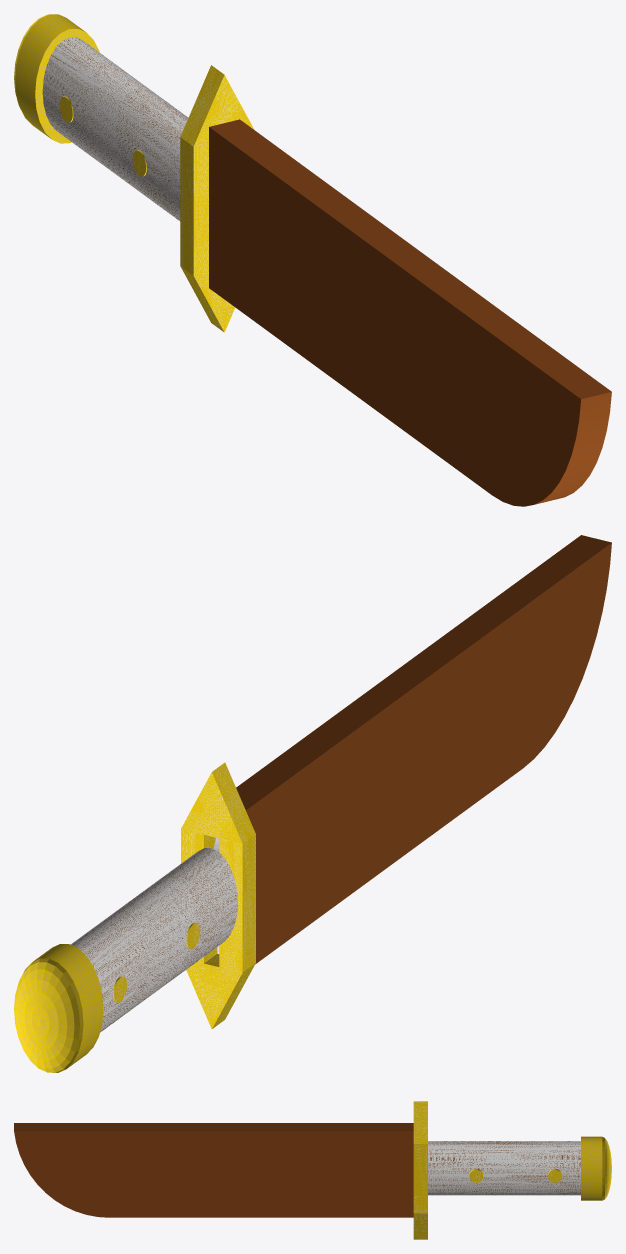
The model's file is model_scale.obj.
The picture shows the model from 3 angles, top to bottom: view 1: azimuth 30°, elevation 25°; view 2: azimuth 150°, elevation 25°; view 3: azimuth 270°, elevation 25°; orthographic projection. The views are drawn at different scales.
Parts seen in each view (by area): view 1: mesh6_mesh6-geometry, mesh5_mesh5-geometry, mesh1_mesh1-geometry; view 2: mesh6_mesh6-geometry, mesh5_mesh5-geometry, mesh1_mesh1-geometry; view 3: mesh6_mesh6-geometry, mesh5_mesh5-geometry, mesh1_mesh1-geometry.
Boxes of the visible parts, x1=… form: mesh6_mesh6-geometry: x1=209, y1=119, x2=611, y2=506; mesh5_mesh5-geometry: x1=14, y1=14, x2=188, y2=221; mesh1_mesh1-geometry: x1=180, y1=65, x2=254, y2=332; mesh6_mesh6-geometry: x1=236, y1=535, x2=611, y2=964; mesh5_mesh5-geometry: x1=14, y1=848, x2=237, y2=1072; mesh1_mesh1-geometry: x1=181, y1=762, x2=255, y2=1028; mesh6_mesh6-geometry: x1=14, y1=1123, x2=413, y2=1217; mesh5_mesh5-geometry: x1=428, y1=1136, x2=611, y2=1200; mesh1_mesh1-geometry: x1=413, y1=1101, x2=427, y2=1239.
Size of the model in its own units: 0.0153 by 0.0551 by 0.2154.
